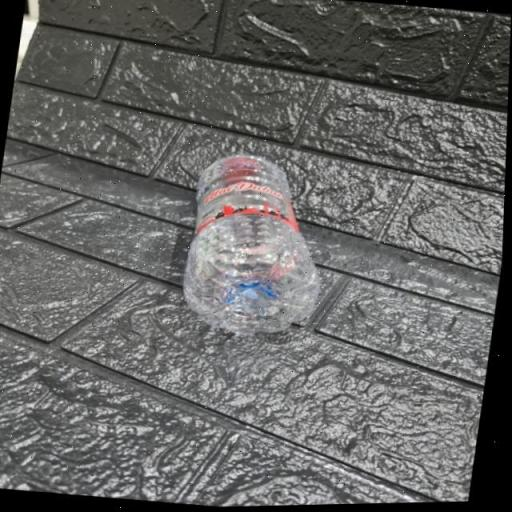plastic: (176, 144, 346, 344)
